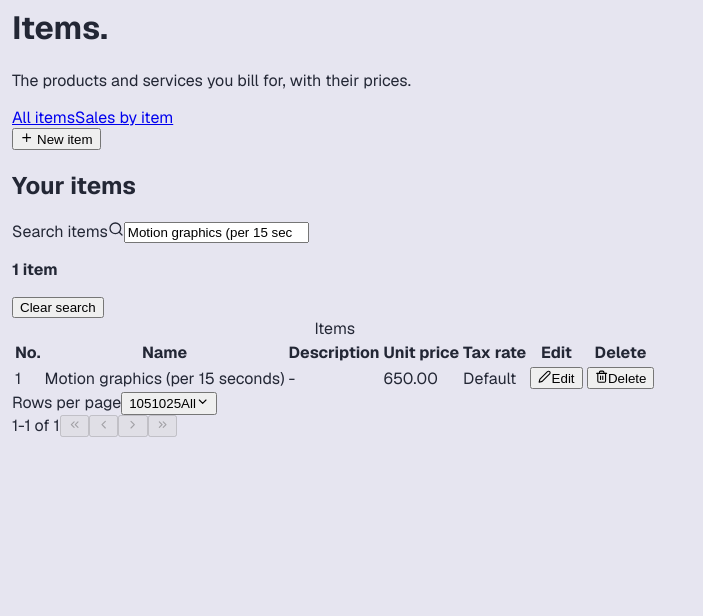
Test: applies and clears URL search
Expected: the table is shown, [12,318,657,392]
Expected: the search field labelled "Search items" holds "Motion graphics (per 15 seconds)", [124,222,309,243]
Click the button "Clear search": point(58, 308) [12,297,104,318]
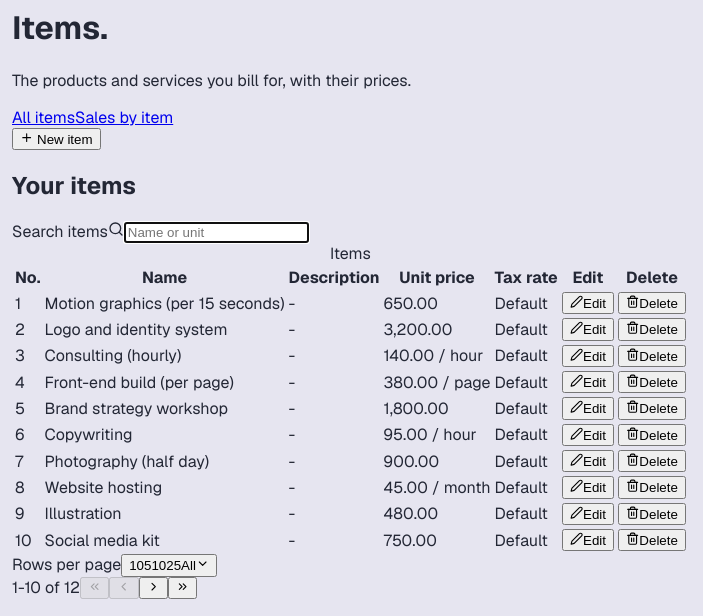
Expected: the search field labelled "Search items" is empty, [124,222,309,243]
